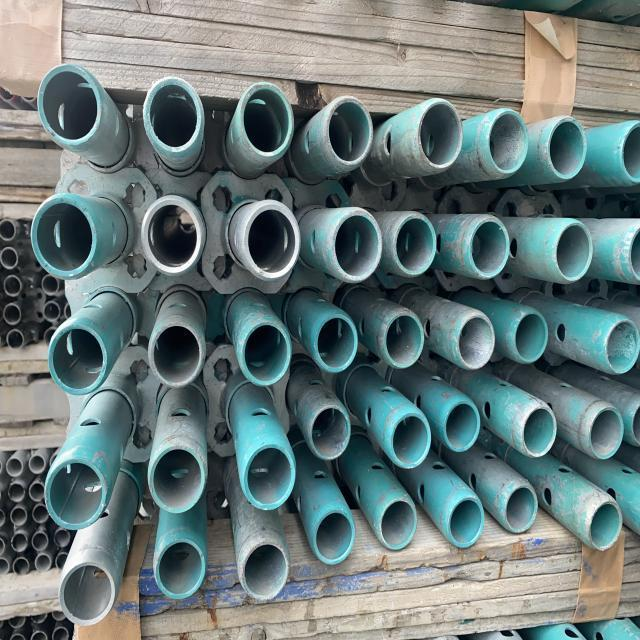pipe: (34, 57, 108, 159), (27, 190, 102, 290), (231, 75, 301, 173), (232, 428, 306, 520), (236, 193, 306, 290), (141, 70, 213, 164), (36, 450, 116, 532), (137, 191, 208, 283), (42, 313, 112, 402), (146, 308, 208, 400), (320, 203, 385, 290), (143, 436, 209, 518), (406, 96, 468, 182), (234, 312, 299, 393), (232, 532, 296, 611), (456, 208, 516, 292), (320, 95, 378, 181), (56, 553, 122, 628), (145, 532, 210, 605), (385, 204, 442, 286), (478, 104, 532, 188), (308, 305, 363, 380), (382, 402, 433, 479), (541, 115, 593, 190), (446, 306, 501, 376), (305, 500, 356, 573), (377, 304, 426, 378), (548, 218, 596, 292), (368, 496, 423, 560), (494, 480, 544, 548), (304, 400, 352, 470), (435, 396, 486, 460), (575, 500, 626, 564), (505, 305, 553, 372), (438, 491, 489, 554), (512, 401, 562, 464), (582, 401, 626, 466), (598, 316, 640, 382), (615, 122, 640, 195), (621, 224, 640, 292)
